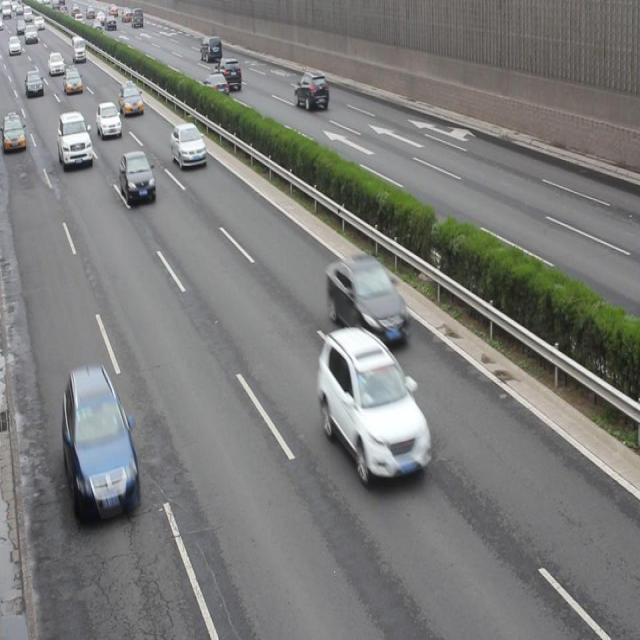car: (318, 326, 429, 482), (63, 364, 136, 524), (326, 253, 409, 347), (58, 110, 93, 171), (119, 150, 156, 206), (169, 121, 207, 171), (294, 68, 329, 112), (96, 100, 122, 139), (3, 113, 27, 155), (119, 83, 144, 118), (216, 57, 242, 90), (201, 72, 228, 102)
